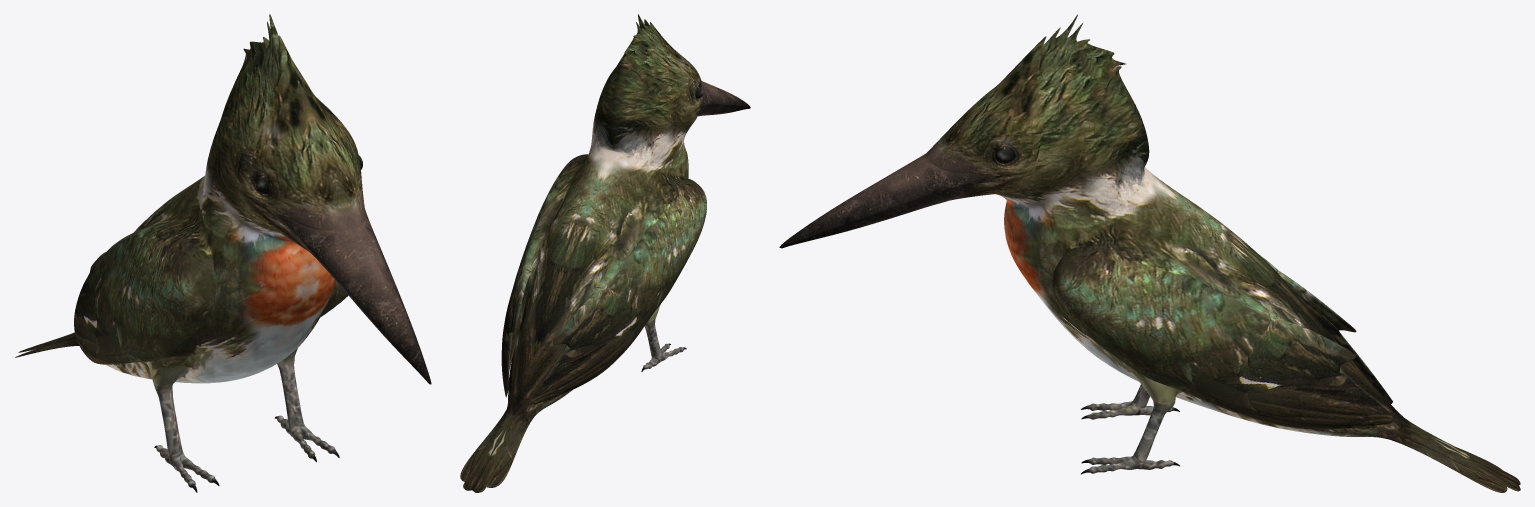
The model's file is kingfisher.fbx.
3 views of the same model, side by side, from view 1: azimuth 30°, elevation 25°; view 2: azimuth 150°, elevation 25°; view 3: azimuth 270°, elevation 25° (orthographic). The views are drawn at different scales.
Parts seen in each view (by area): view 1: 12241_Amazon_Kingfisher_v1_l3; view 2: 12241_Amazon_Kingfisher_v1_l3; view 3: 12241_Amazon_Kingfisher_v1_l3.
Part boxes in pixels (left/top/right/bottom): 12241_Amazon_Kingfisher_v1_l3: left=15, top=14, right=431, bottom=492; 12241_Amazon_Kingfisher_v1_l3: left=460, top=14, right=750, bottom=492; 12241_Amazon_Kingfisher_v1_l3: left=779, top=14, right=1520, bottom=492.
Size of the model in its own units: 10.17 by 24.8 by 35.23.
Materials: 1 (1 with a texture image).
